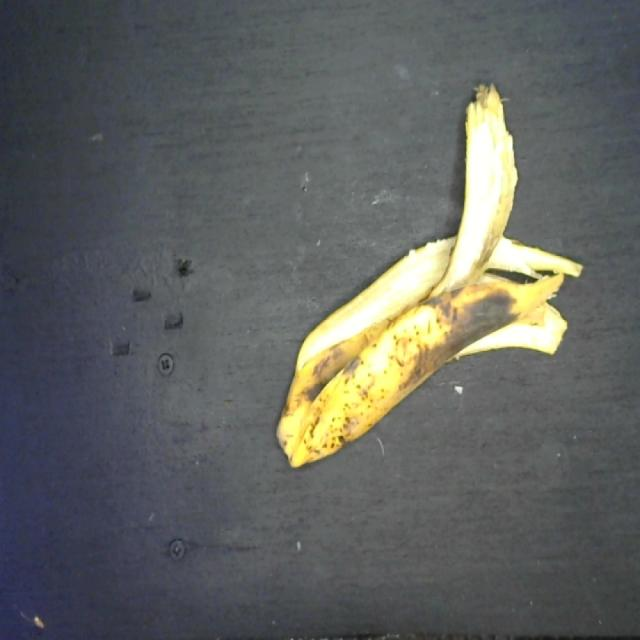biodegradable: (271, 73, 583, 467)
